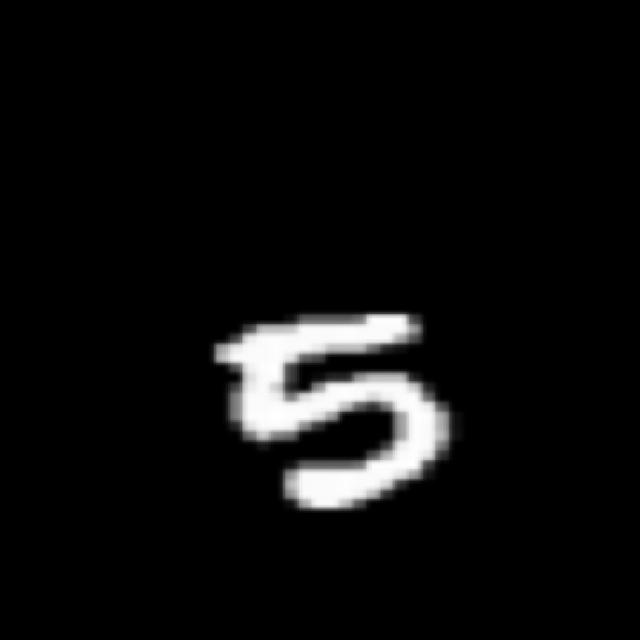five -5-: (205, 298, 464, 522)
